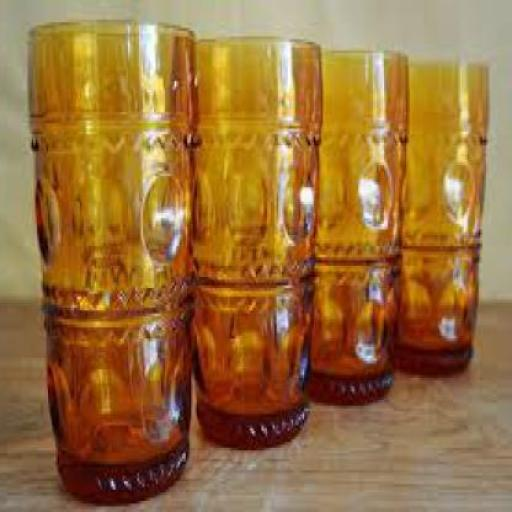glass: (28, 20, 202, 498), (186, 34, 324, 447), (308, 51, 412, 406), (397, 55, 492, 378)
